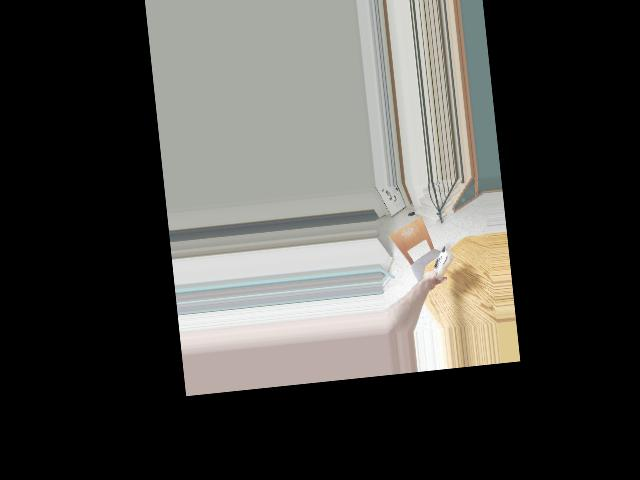cheese: (429, 244, 456, 281)
